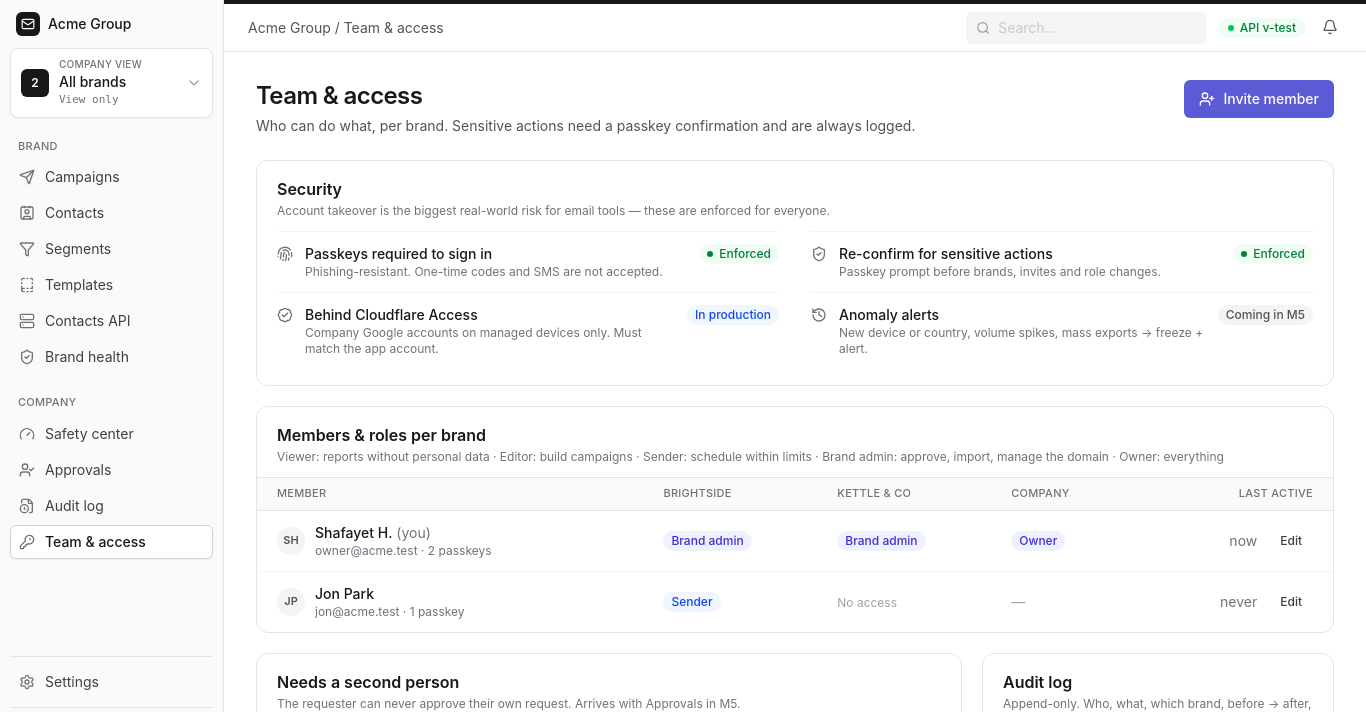
Test: team & access › invites a member, confirming with a passkey when asked
Click the button "Invite member": [1259, 99] box [1184,80,1334,118]
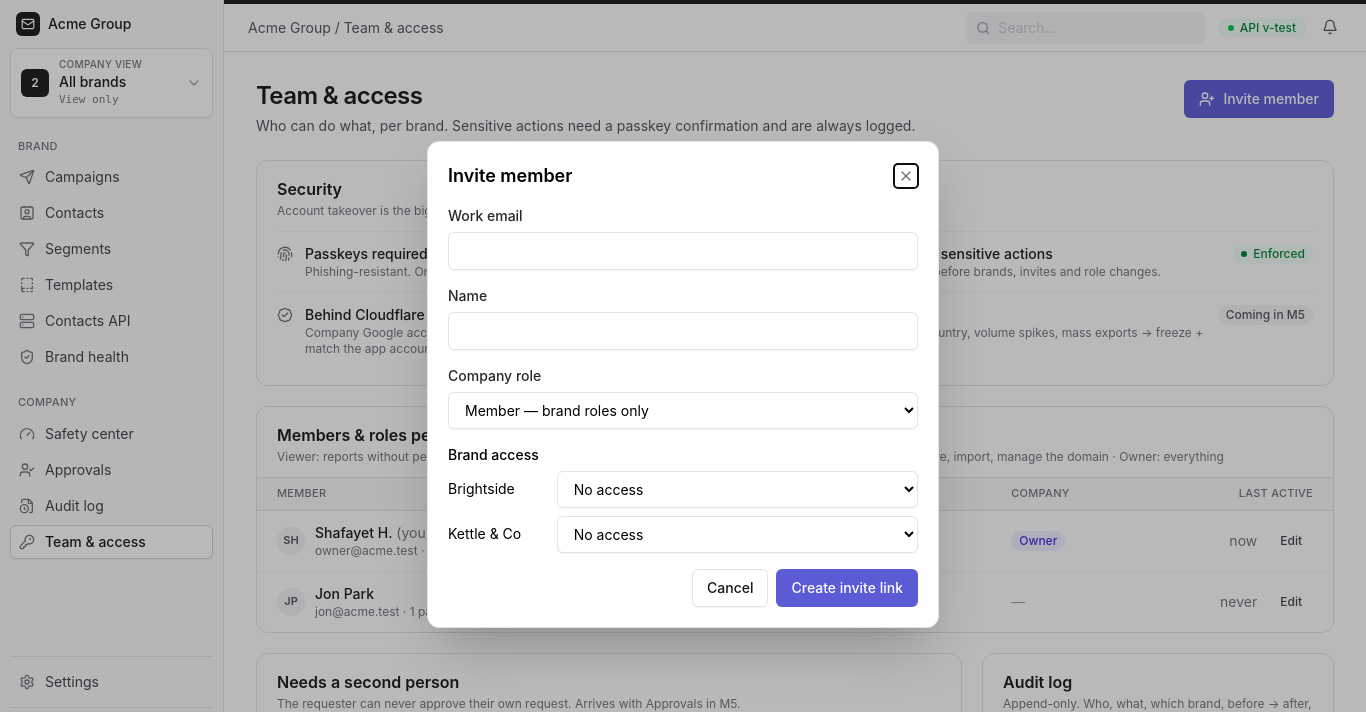
In the field labelled "Work email": [683, 250] box [448,232,918,270], type "maria@acme.test"
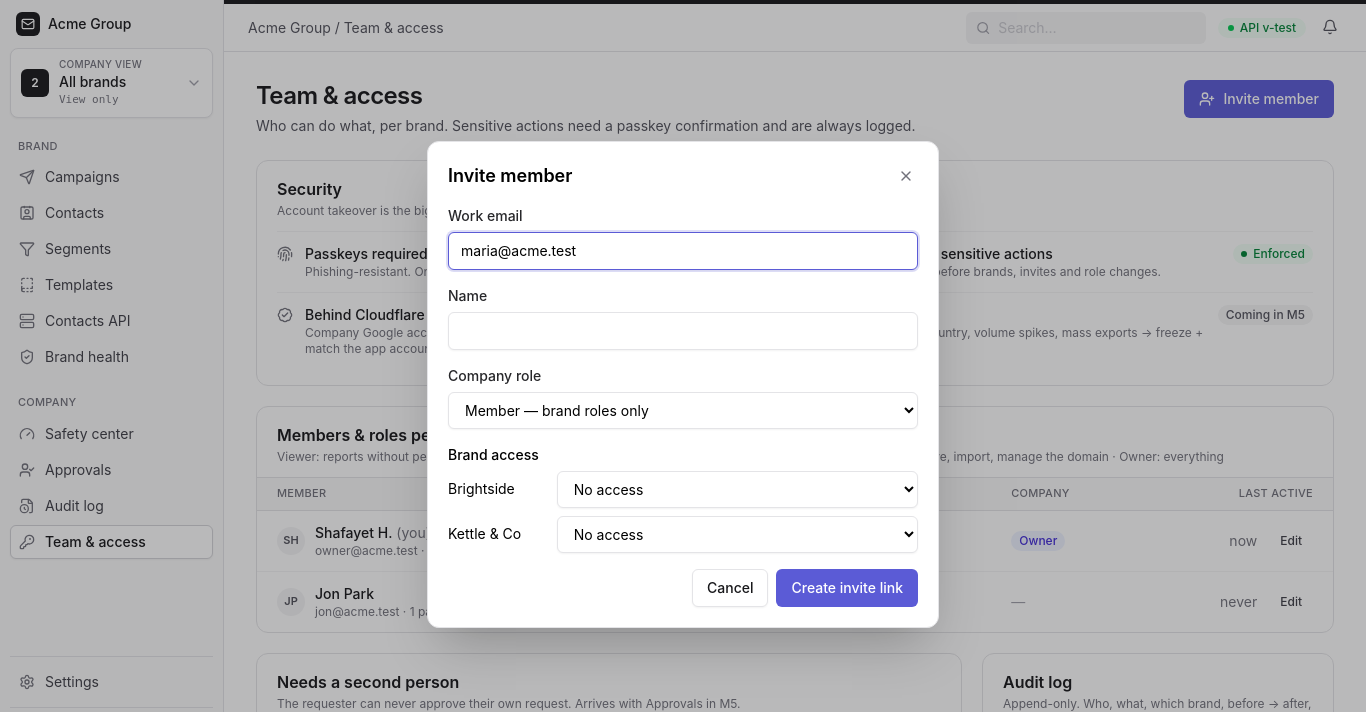
In the field labelled "Name": [683, 330] box [448,312,918,350], type "Maria Santos"
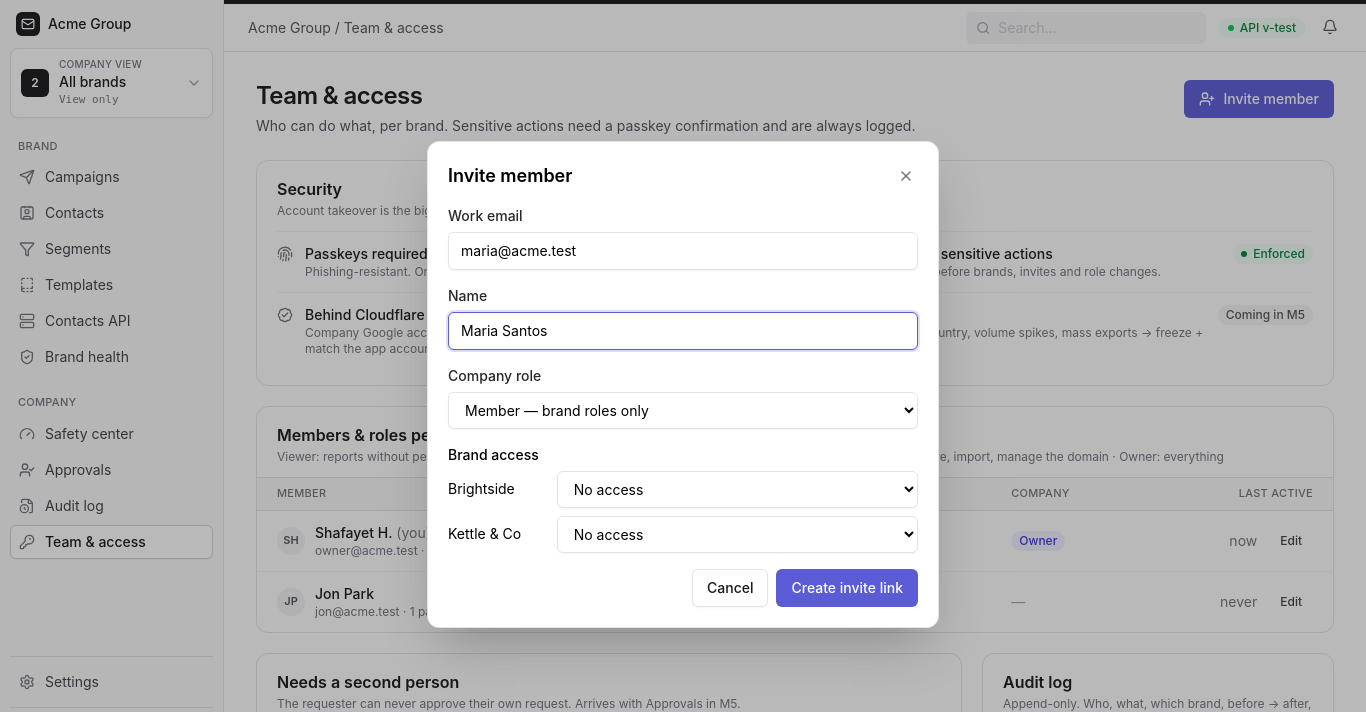
Select "Brand admin — Approve, import, manage the domain" in the dropdown named "Role for Brightside": [737, 489] box [557,470,918,508]
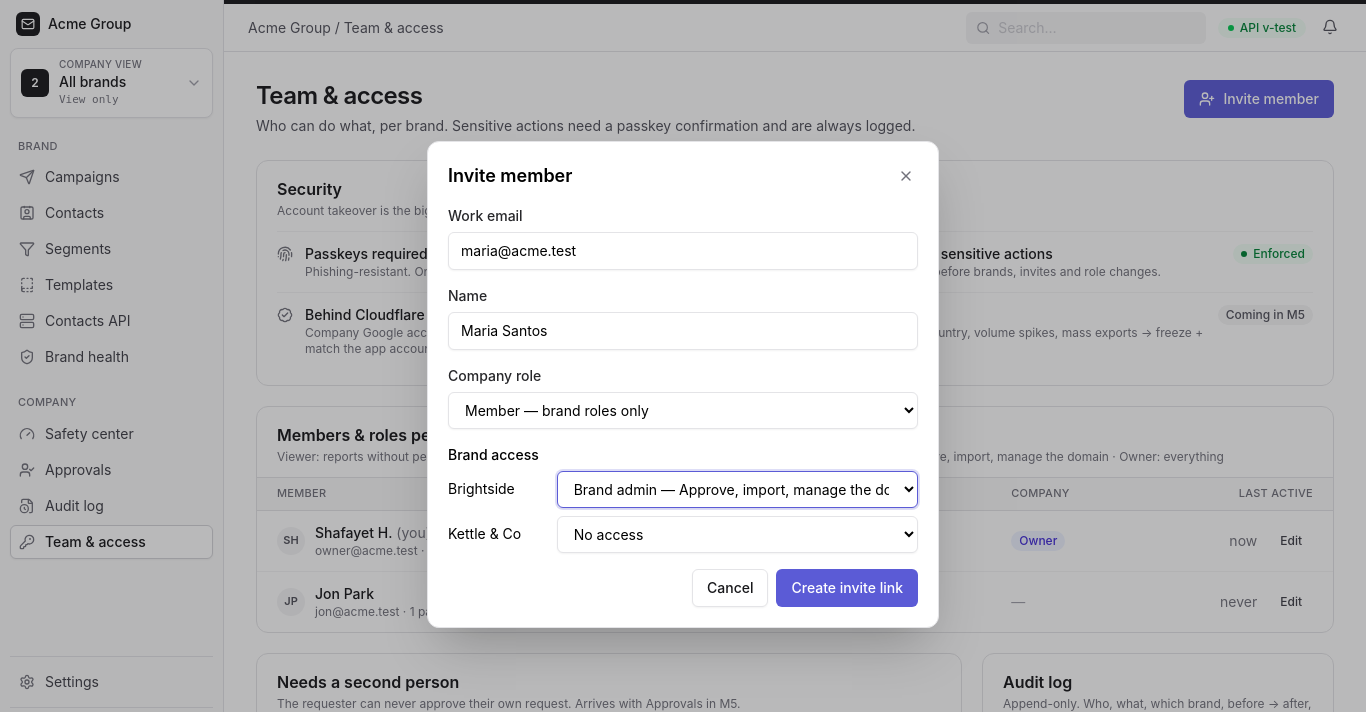
Click the button "Create invite link": [847, 588] box [776,568,918,606]
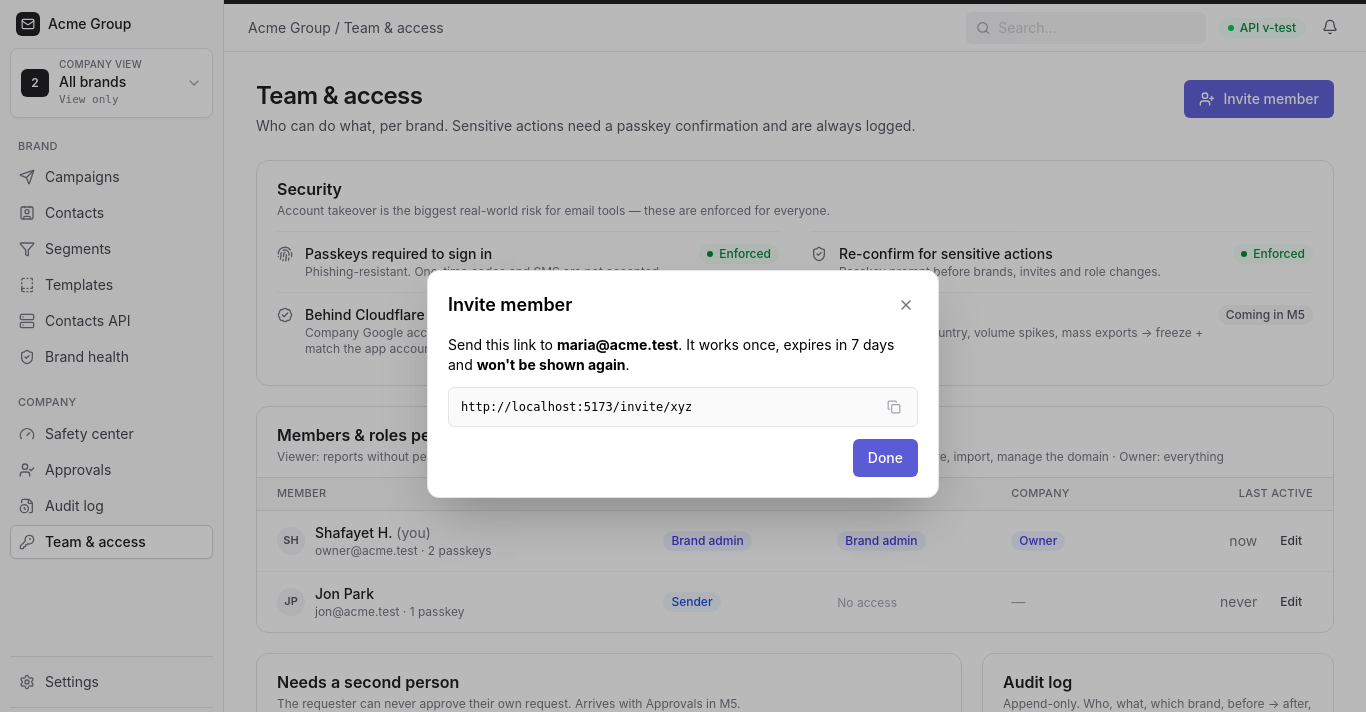
Check: the text "http://localhost:5173/invite/xyz" is shown, box [461,400,692,414]
